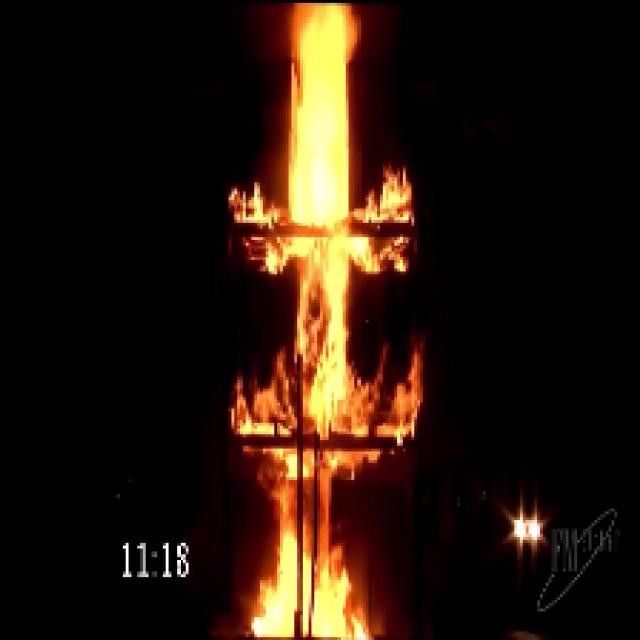fire: (266, 6, 359, 638)
